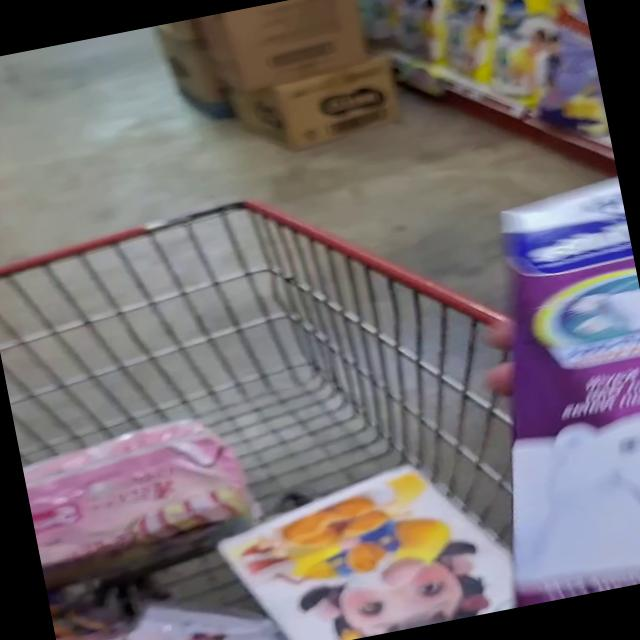Tisu: (232, 442, 509, 640)
Ubat Gigi: (436, 158, 640, 608)
